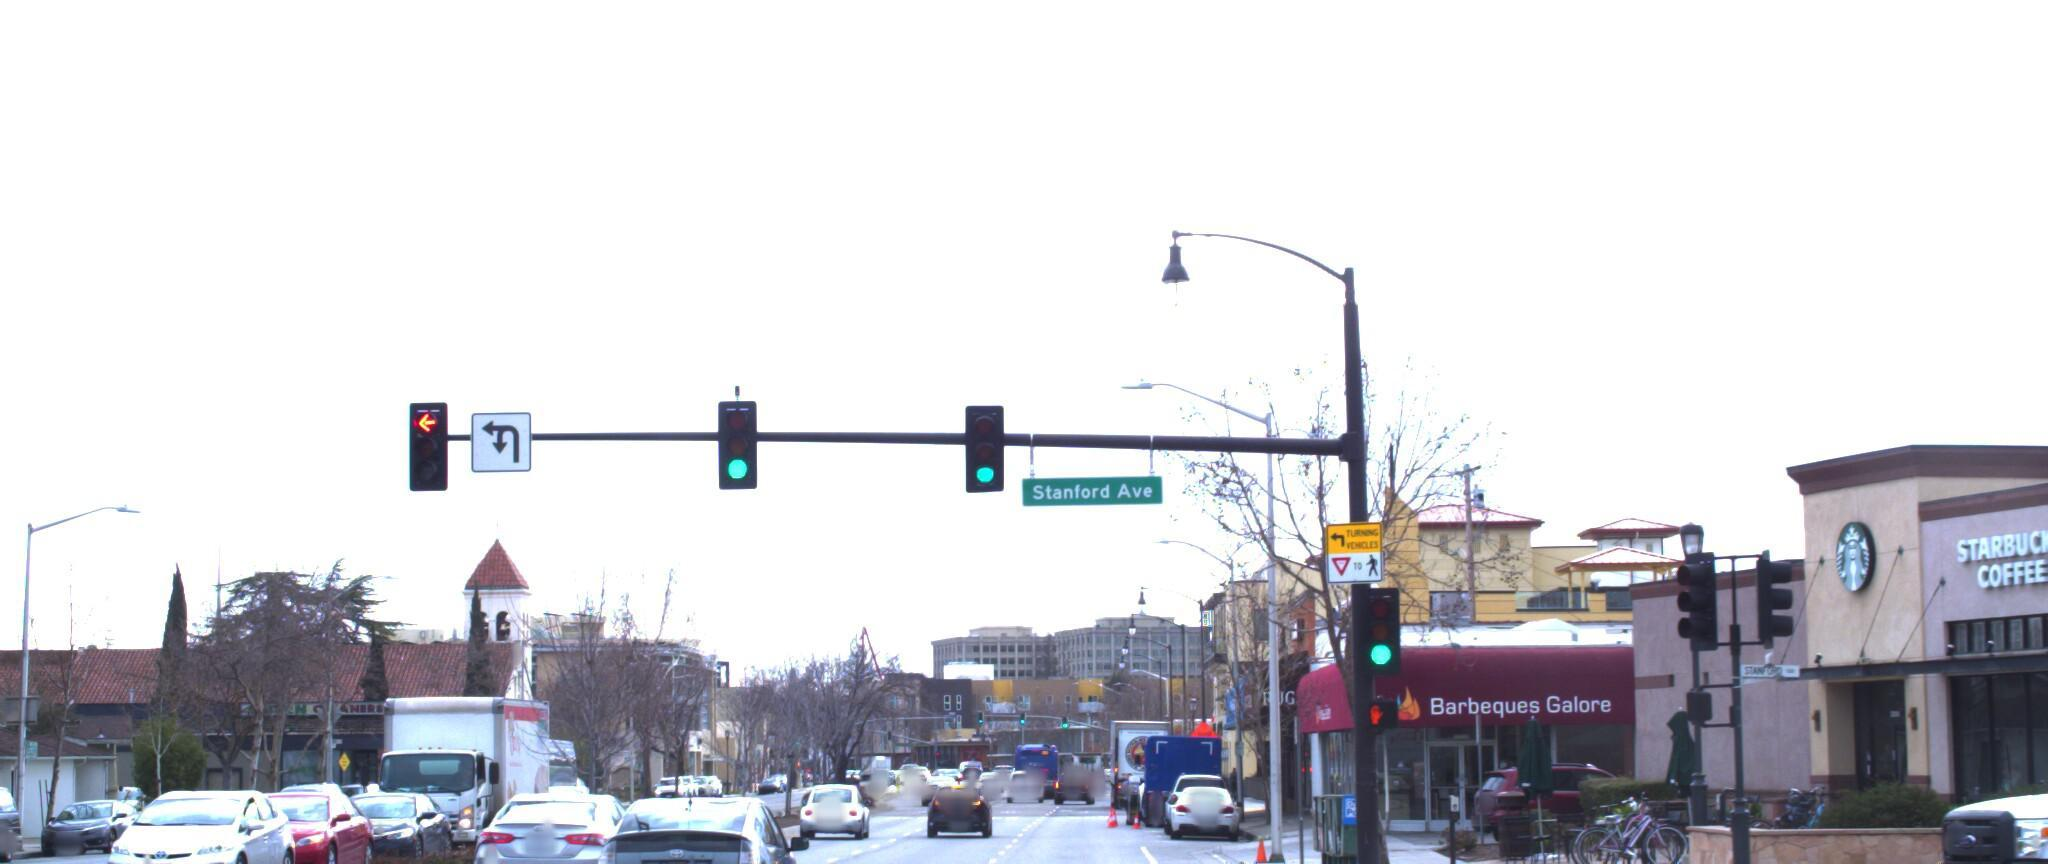bicycle: (1546, 775, 1691, 855), (1557, 777, 1690, 861)
car: (1885, 689, 2048, 864), (89, 773, 310, 864), (584, 779, 812, 864), (453, 780, 653, 864), (205, 773, 383, 864), (1160, 769, 1233, 827), (0, 773, 27, 857)
truck: (366, 683, 556, 850)
